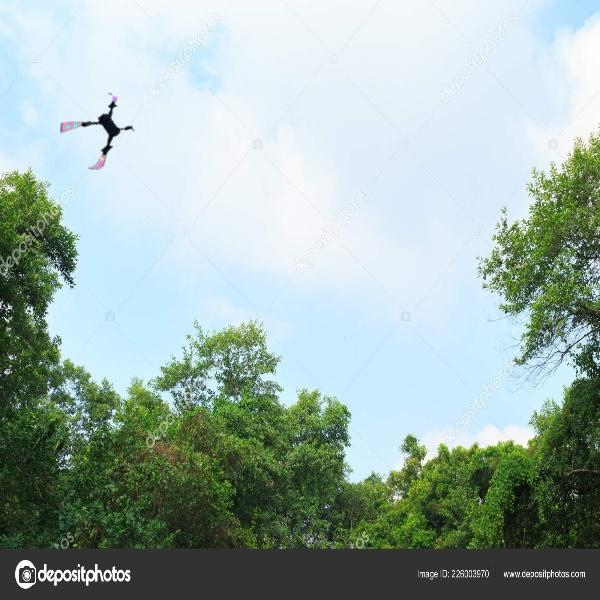drone: (62, 96, 140, 174)
